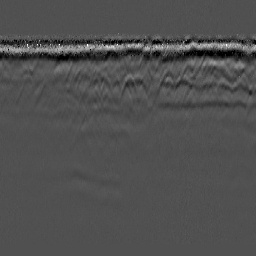cavity: (120, 74, 138, 100)
